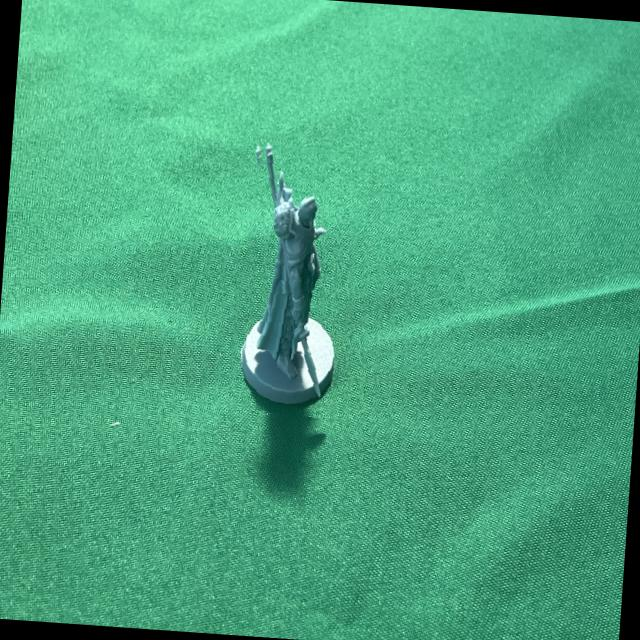isis_follower: (227, 143, 365, 420)
